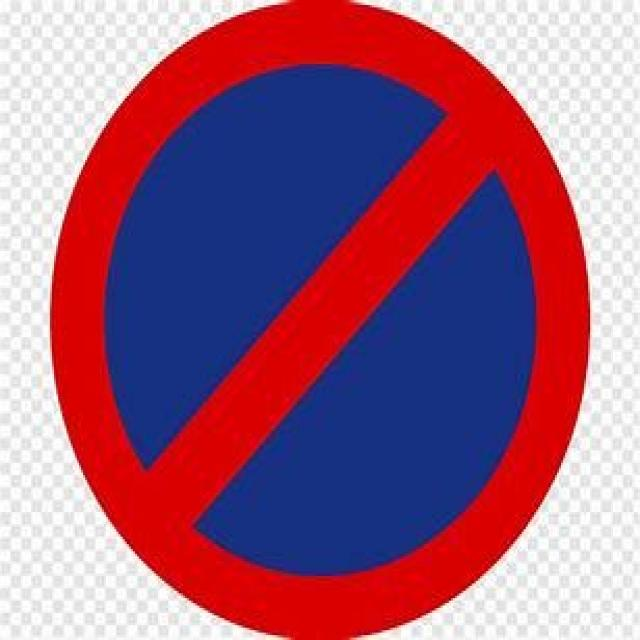NO_PARKING: (48, 0, 590, 638)
